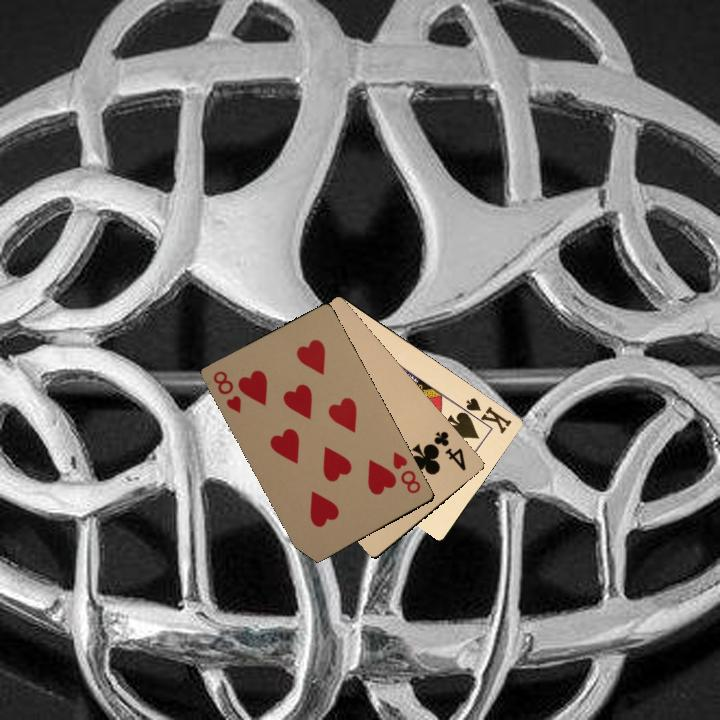4c: (429, 427, 469, 474)
8h: (209, 367, 244, 416), (389, 448, 423, 496)
Ks: (458, 393, 514, 436)
